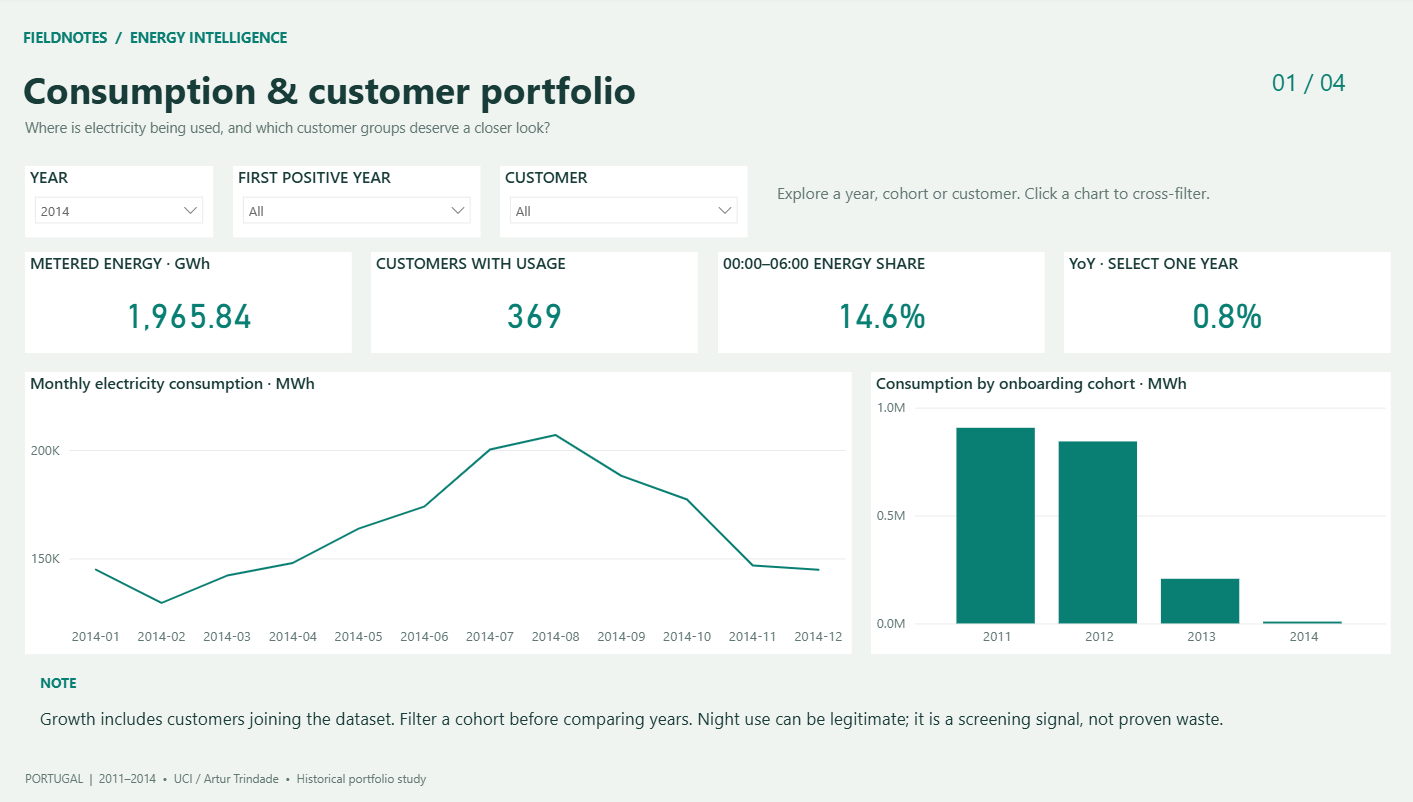

The page's visual inventory and layout, read from the dashboard file:
{"tool":"powerbi","page":{"name":"Consumption & customer portfolio","canvas":[1440,800],"ordinal":0},"visuals":[{"type":"textbox","box":[28,10,1000,39.5],"z":1},{"type":"textbox","box":[28,47,1230,65],"z":2},{"type":"textbox","box":[30,101,1375,43],"z":3},{"type":"textbox","box":[1290,48,120,50],"z":4},{"type":"textbox","box":[30,759,1250,38],"z":5},{"type":"slicer","title":"YEAR","fields":{"Values":["Date.Year"]},"box":[30,151,190,72],"z":6},{"type":"slicer","title":"FIRST POSITIVE YEAR","fields":{"Values":["Meter.Cohort"]},"box":[240,151,250,72],"z":7},{"type":"slicer","title":"CUSTOMER","fields":{"Values":["Meter.Meter"]},"box":[510,151,250,72],"z":8},{"type":"textbox","box":[790,167,605,46],"z":9},{"type":"card","title":"METERED ENERGY · GWh","fields":{"Values":["Metrics.Energy GWh"]},"box":[30,237,330,102],"z":10},{"type":"card","title":"CUSTOMERS WITH USAGE","fields":{"Values":["Metrics.Meters with Usage"]},"box":[380,237,330,102],"z":11},{"type":"card","title":"00:00–06:00 ENERGY SHARE","fields":{"Values":["Metrics.Night Share"]},"box":[730,237,330,102],"z":12},{"type":"card","title":"YoY · SELECT ONE YEAR","fields":{"Values":["Metrics.Energy YoY"]},"box":[1080,237,330,102],"z":13},{"type":"lineChart","title":"Monthly electricity consumption · MWh","fields":{"Category":["Date.Month"],"Y":["Metrics.Energy MWh"]},"box":[30,359,835,285],"z":14},{"type":"clusteredColumnChart","title":"Consumption by onboarding cohort · MWh","fields":{"Category":["Meter.Cohort"],"Y":["Metrics.Energy MWh"]},"box":[885,359,525,285],"z":15},{"type":"textbox","box":[45,663,270,39.5],"z":16},{"type":"textbox","box":[45,696,1330,55],"z":17}]}

Visuals, with their boxes in screenshot pixels (x1, y1, x2, y2), scaled from the page's 1440x800 canvas onto the 1413x802 screenshot:
textbox: select_region(27, 10, 1009, 50)
textbox: select_region(27, 47, 1234, 112)
textbox: select_region(29, 101, 1379, 144)
textbox: select_region(1266, 48, 1384, 98)
textbox: select_region(29, 761, 1256, 799)
"YEAR" slicer: select_region(29, 151, 216, 224)
"FIRST POSITIVE YEAR" slicer: select_region(236, 151, 481, 224)
"CUSTOMER" slicer: select_region(500, 151, 746, 224)
textbox: select_region(775, 167, 1369, 214)
"METERED ENERGY · GWh" card: select_region(29, 238, 353, 340)
"CUSTOMERS WITH USAGE" card: select_region(373, 238, 697, 340)
"00:00–06:00 ENERGY SHARE" card: select_region(716, 238, 1040, 340)
"YoY · SELECT ONE YEAR" card: select_region(1060, 238, 1384, 340)
"Monthly electricity consumption · MWh" lineChart: select_region(29, 360, 849, 646)
"Consumption by onboarding cohort · MWh" clusteredColumnChart: select_region(868, 360, 1384, 646)
textbox: select_region(44, 665, 309, 704)
textbox: select_region(44, 698, 1349, 753)
